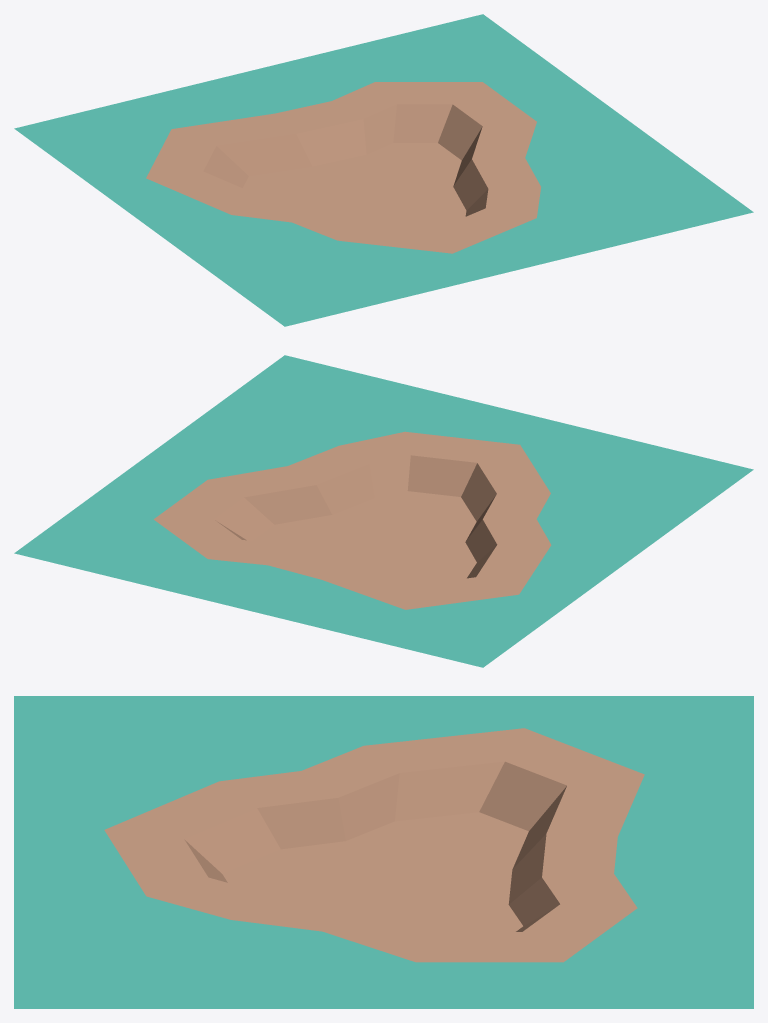
Rendered from ground_pathTile.glb.
3 views of the same model, one above another, from view 1: azimuth 30°, elevation 25°; view 2: azimuth 150°, elevation 25°; view 3: azimuth 270°, elevation 25° (orthographic). The views are drawn at different scales.
Parts seen in each view (by area): view 1: ground_pathTile; view 2: ground_pathTile; view 3: ground_pathTile.
Boxes of the visible parts, x1,y1,x2,y2 form: ground_pathTile: (14,14,753,326); ground_pathTile: (14,355,753,667); ground_pathTile: (14,696,753,1008).
Bounding box in the file's own units: 1 × 0.05 × 1.
